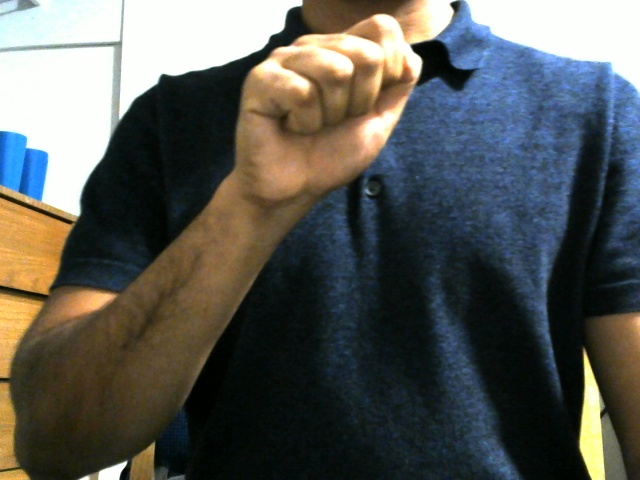A: (226, 11, 432, 207)
